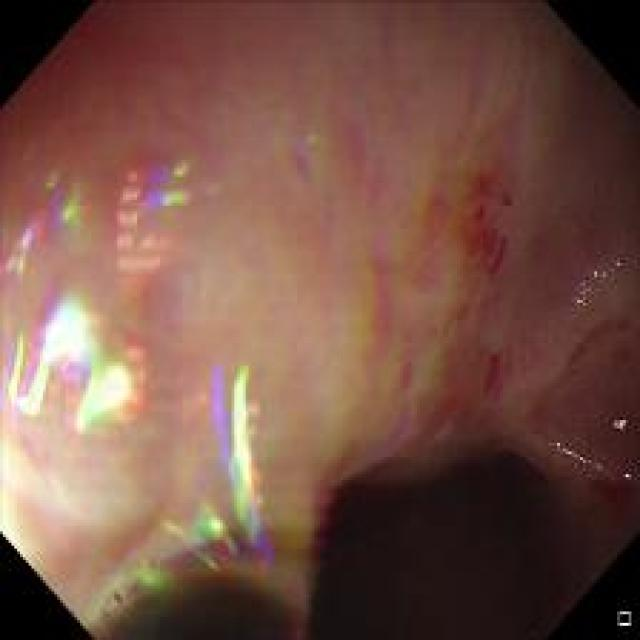blur: (4, 1, 450, 634)
color misalignment: (165, 360, 278, 589), (5, 288, 156, 450), (98, 109, 209, 294), (4, 146, 88, 295), (86, 548, 166, 618), (549, 438, 635, 490), (562, 249, 625, 318), (280, 120, 339, 181), (602, 411, 632, 441)
contrast: (296, 455, 592, 635), (104, 575, 289, 638)
